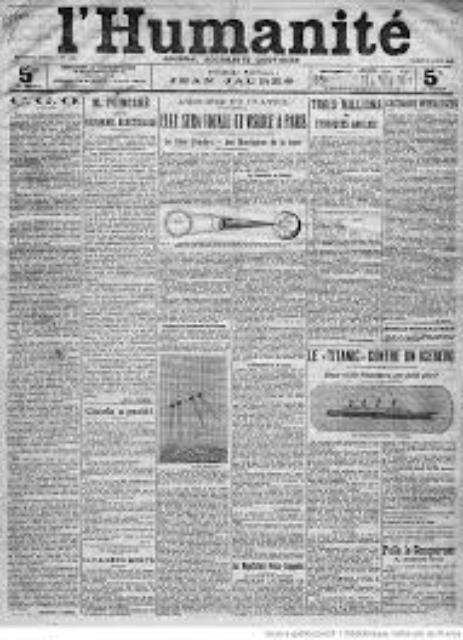cardboard paper: (1, 0, 462, 626)
